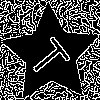T: (25, 29, 79, 83)
